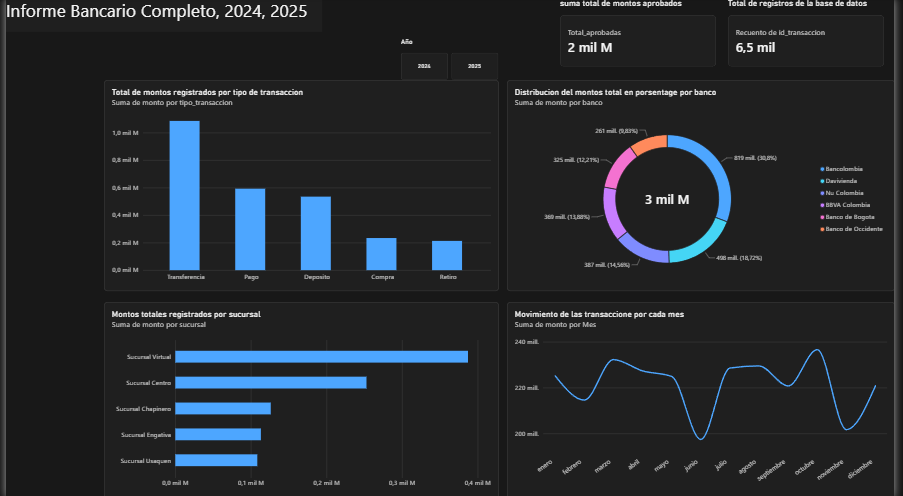

What the dashboard file says about the page in this screenshot:
{"tool":"powerbi","page":{"name":"Pagina principal de mustra","canvas":[1920,1080],"ordinal":0},"visuals":[{"type":"cardVisual","title":"suma total de montos aprobados ","fields":{"Data":["transacciones_banco.Total_aprobadas"]},"box":[1196.6,0,337.6,148.7],"z":0},{"type":"cardVisual","title":"Total de registros de la base de datos","fields":{"Data":["Count(transacciones_banco.id_transaccion)"]},"box":[1559.5,0,337.6,148.7],"z":1},{"type":"donutChart","title":"Distribucion del montos total en porsentage por banco","fields":{"Category":["transacciones_banco.banco"],"Y":["Sum(transacciones_banco.monto)"]},"box":[1082.2,177.1,838.1,455.8],"z":2},{"type":"clusteredColumnChart","title":"Total de montos registrados por tipo de transaccion","fields":{"Category":["transacciones_banco.tipo_transaccion"],"Y":["Sum(transacciones_banco.monto)"]},"box":[211.7,177.1,853.2,455.8],"z":3},{"type":"clusteredBarChart","title":"Montos totales registrados por sucursal","fields":{"Category":["transacciones_banco.sucursal"],"Y":["Sum(transacciones_banco.monto)"]},"box":[211.7,656.6,853.2,423.4],"z":4},{"type":"lineChart","title":"Movimiento de las transaccione por cada mes","fields":{"Category":["transacciones_banco.fecha.Variation.Jerarquía de fechas.Mes"],"Y":["Sum(transacciones_banco.monto)"]},"box":[1082.2,656.6,838.1,423.4],"z":5},{"type":"advancedSlicerVisual","fields":{"Values":["transacciones_banco.fecha.Variation.Jerarquía de fechas.Año"]},"box":[853.2,86.4,211.7,90.7],"z":7},{"type":"textbox","box":[0,0,682.6,73.4],"z":8}]}

Visuals, with their boxes in screenshot pixels (x1, y1, x2, y2), scaled from the page's 1920x1080 canvas onto the 903x496 screenshot:
"suma total de montos aprobados " cardVisual: (563, 0, 722, 68)
"Total de registros de la base de datos" cardVisual: (733, 0, 892, 68)
"Distribucion del montos total en porsentage por banco" donutChart: (509, 81, 902, 291)
"Total de montos registrados por tipo de transaccion" clusteredColumnChart: (100, 81, 501, 291)
"Montos totales registrados por sucursal" clusteredBarChart: (100, 302, 501, 495)
"Movimiento de las transaccione por cada mes" lineChart: (509, 302, 902, 495)
advancedSlicerVisual - transacciones_banco.fecha.Variation.Jerarquía de fechas.Año: (401, 40, 501, 81)
textbox: (0, 0, 321, 34)
